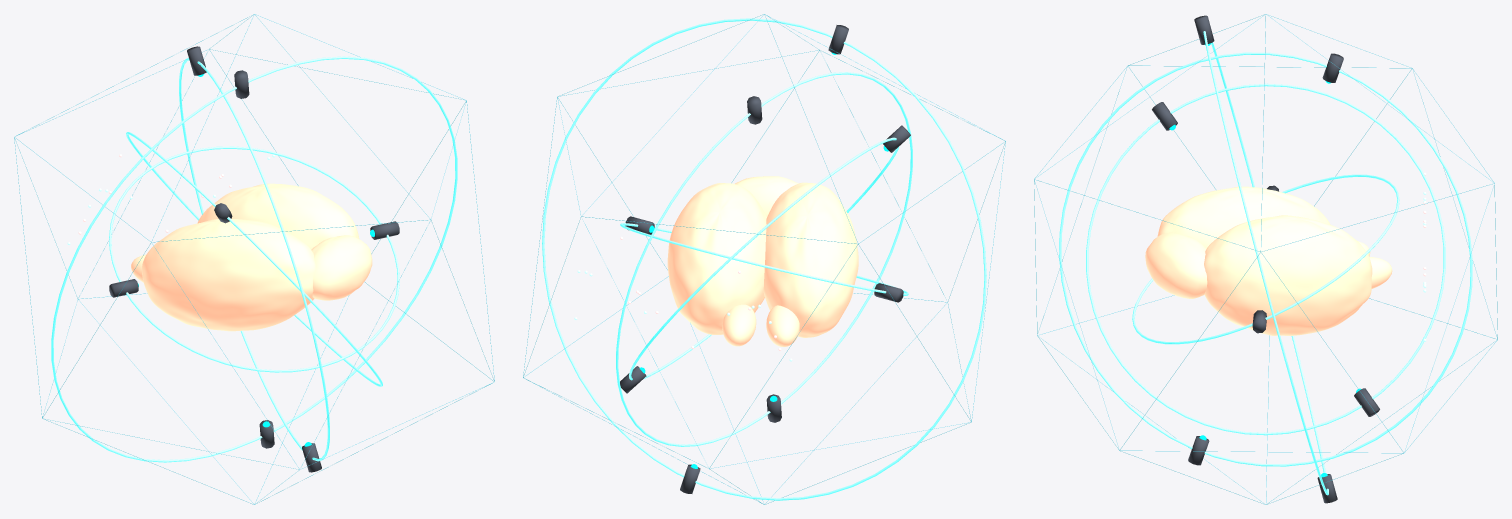
Rendered from simulation.glb.
The picture shows the model from 3 angles, left to right: view 1: azimuth 30°, elevation 25°; view 2: azimuth 150°, elevation 25°; view 3: azimuth 270°, elevation 25°; orthographic projection.
Visible parts, largest first — view 1: Murine_Cortex_Left, Murine_Cortex_Right, Habitat_Radiation_Scaffold, Habitat_Telemetry_Track_4, Murine_Cerebellar_Node, Habitat_Telemetry_Track_1, Habitat_Telemetry_Track_3, Habitat_Telemetry_Track_2; view 2: Murine_Cortex_Right, Murine_Cortex_Left, Habitat_Radiation_Scaffold, Habitat_Telemetry_Track_4, Habitat_Telemetry_Track_3, Habitat_Telemetry_Track_2, Murine_Cerebellar_Node, Murine_Olfactory_Right, Murine_Olfactory_Left, Habitat_Telemetry_Track_1; view 3: Murine_Cortex_Right, Murine_Cortex_Left, Habitat_Radiation_Scaffold, Habitat_Telemetry_Track_3, Habitat_Telemetry_Track_2, Murine_Cerebellar_Node, Habitat_Telemetry_Track_4, Habitat_Telemetry_Track_1, Murine_Olfactory_Right.
Part boxes in pixels (x1,y1,x2,y2): Murine_Cortex_Left: (142, 219, 315, 331); Murine_Cortex_Right: (197, 183, 359, 298); Habitat_Radiation_Scaffold: (14, 14, 494, 504); Habitat_Telemetry_Track_4: (51, 56, 457, 462); Murine_Cerebellar_Node: (311, 235, 372, 300); Habitat_Telemetry_Track_1: (109, 146, 399, 372); Habitat_Telemetry_Track_3: (179, 58, 329, 461); Habitat_Telemetry_Track_2: (126, 132, 382, 386); Murine_Cortex_Right: (667, 183, 766, 334); Murine_Cortex_Left: (763, 182, 858, 337); Habitat_Radiation_Scaffold: (523, 14, 1005, 504); Habitat_Telemetry_Track_4: (542, 18, 986, 500); Habitat_Telemetry_Track_3: (616, 72, 912, 446); Habitat_Telemetry_Track_2: (629, 137, 899, 380); Murine_Cerebellar_Node: (735, 176, 798, 216); Murine_Olfactory_Right: (722, 304, 756, 346); Murine_Olfactory_Left: (766, 305, 799, 346); Habitat_Telemetry_Track_1: (620, 223, 908, 295); Murine_Cortex_Right: (1204, 215, 1372, 335); Murine_Cortex_Left: (1157, 186, 1330, 248); Habitat_Radiation_Scaffold: (1034, 14, 1497, 504); Habitat_Telemetry_Track_3: (1059, 52, 1472, 466); Habitat_Telemetry_Track_2: (1086, 83, 1445, 435); Murine_Cerebellar_Node: (1145, 232, 1207, 298); Habitat_Telemetry_Track_4: (1203, 31, 1328, 495); Habitat_Telemetry_Track_1: (1132, 174, 1399, 344); Murine_Olfactory_Right: (1369, 257, 1392, 288).
Bounding box in the file's own units: 7.35 × 8.18 × 7.
